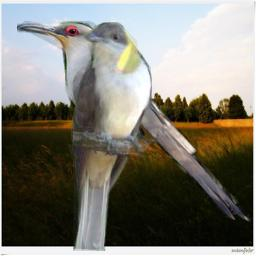Cuckoo: (17, 20, 251, 227), (68, 22, 152, 251)
